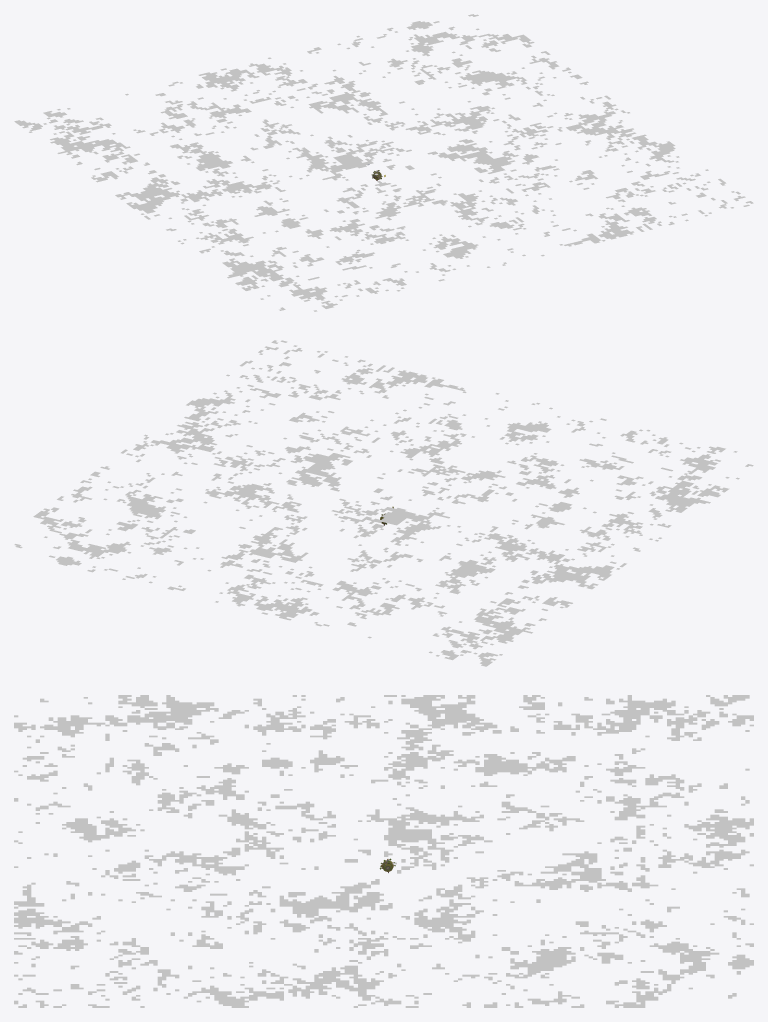
The model's file is minecraft-world.glb.
3 views of the same model, one above another, from view 1: azimuth 30°, elevation 25°; view 2: azimuth 150°, elevation 25°; view 3: azimuth 270°, elevation 25° (orthographic). The views are drawn at different scales.
Visible parts, largest first — view 1: clouds; view 2: clouds; view 3: clouds.
Boxes of the visible parts, x1,y1,x2,y2 form: clouds: (14, 14, 753, 311); clouds: (14, 340, 753, 666); clouds: (14, 695, 753, 1007).
Bounding box in the file's own units: 2008 × 75.32 × 2008.
33 materials, 32 textured.
